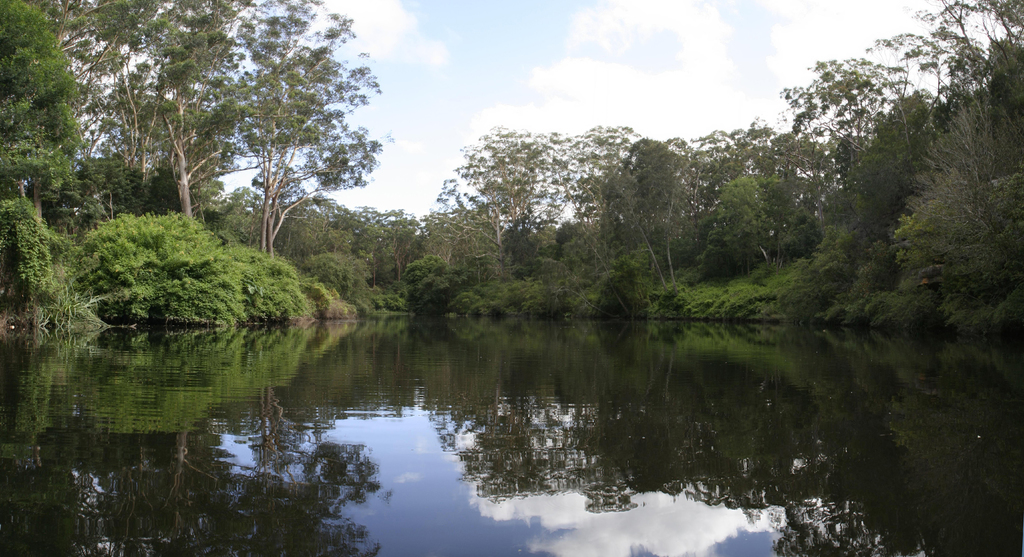Tree: (0, 0, 1023, 347)
